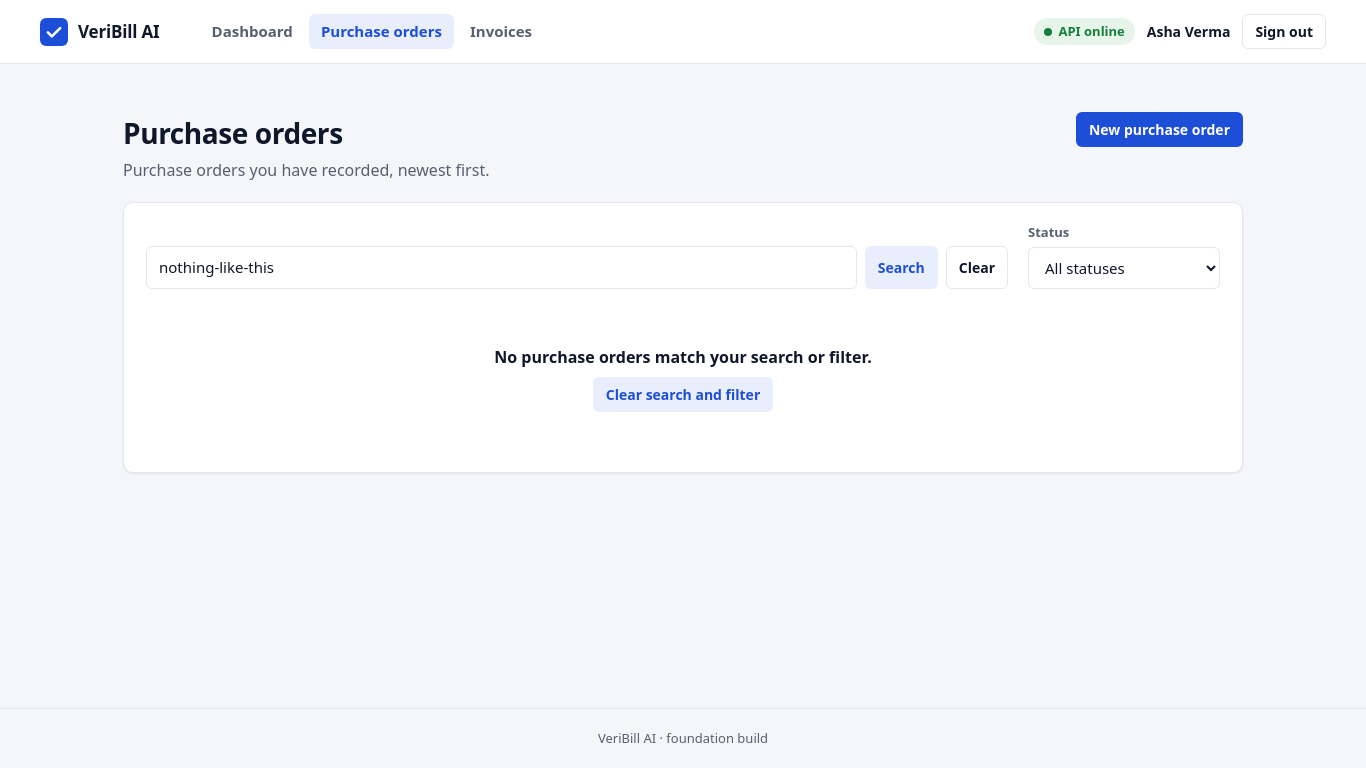
Test: PurchaseOrdersPage › offers to clear filters when nothing matches
Click the button "Clear search and filter": click(683, 394) x1=593 y1=376 x2=773 y2=412
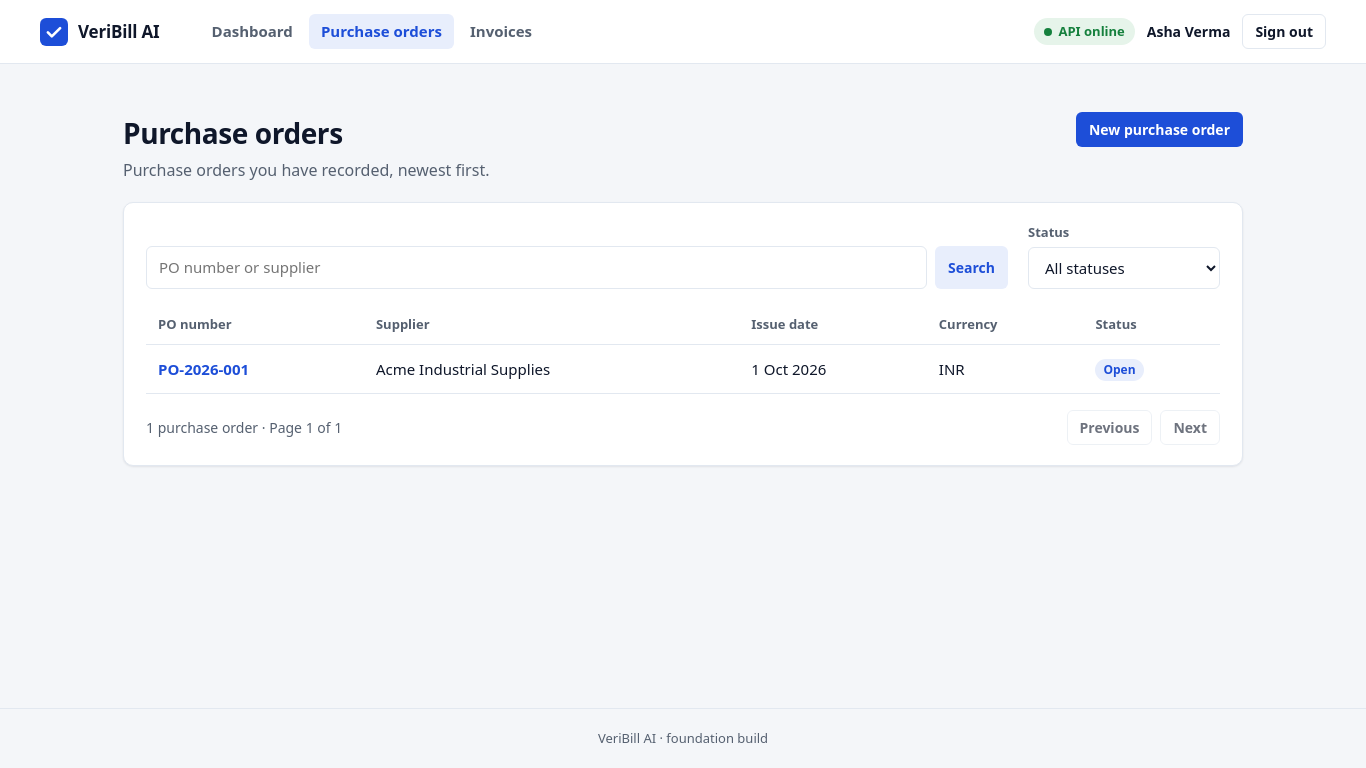
Expected: the link "PO-2026-001" is shown, x1=158 y1=359 x2=249 y2=379
